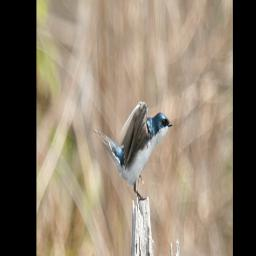Swallow: (93, 99, 173, 203)
